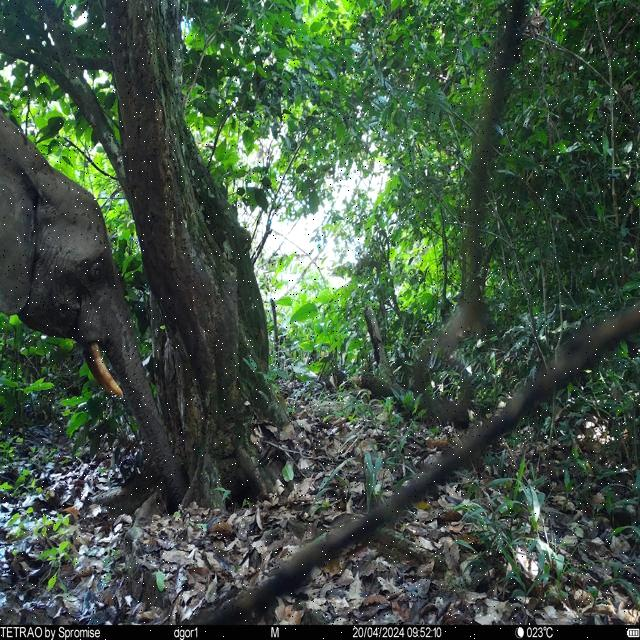elephant: (0, 108, 186, 510)
tusk: (83, 341, 125, 402)
